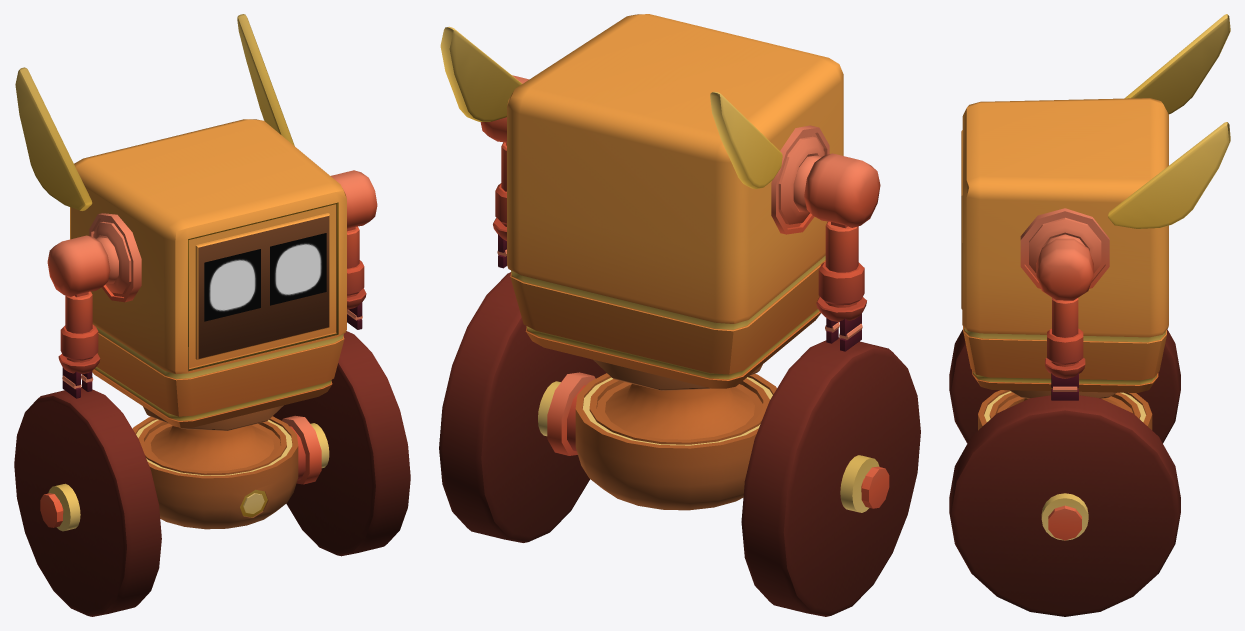
File: Turbyo.fbx
The picture shows the model from 3 angles, left to right: view 1: azimuth 30°, elevation 25°; view 2: azimuth 150°, elevation 25°; view 3: azimuth 270°, elevation 25°; orthographic projection. The views are drawn at different scales.
Parts seen in each view (by area): view 1: pCylinder7, pCylinder3, pCylinder2, polySurface28, polySurface5, polySurface29, polySurface30, polySurface6, polySurface4; view 2: pCylinder7, pCylinder3, pCylinder2, polySurface28, polySurface4, polySurface5, polySurface6; view 3: pCylinder7, pCylinder3, polySurface6, polySurface4, polySurface5, pCylinder2.
Boxes of the visible parts, bbox=[...] form: pCylinder7: bbox=[70, 119, 346, 430]; pCylinder3: bbox=[14, 331, 410, 616]; pCylinder2: bbox=[132, 416, 305, 529]; polySurface28: bbox=[47, 235, 118, 398]; polySurface5: bbox=[15, 67, 92, 210]; polySurface29: bbox=[270, 233, 326, 305]; polySurface30: bbox=[204, 249, 260, 321]; polySurface6: bbox=[331, 170, 377, 329]; polySurface4: bbox=[237, 14, 294, 145]; pCylinder7: bbox=[507, 14, 843, 390]; pCylinder3: bbox=[439, 272, 920, 616]; pCylinder2: bbox=[567, 373, 776, 510]; polySurface28: bbox=[793, 153, 880, 351]; polySurface4: bbox=[440, 26, 522, 121]; polySurface5: bbox=[710, 91, 782, 188]; polySurface6: bbox=[480, 75, 528, 268]; pCylinder7: bbox=[961, 98, 1168, 398]; pCylinder3: bbox=[949, 329, 1180, 616]; polySurface6: bbox=[1036, 234, 1093, 400]; polySurface4: bbox=[1108, 122, 1230, 228]; polySurface5: bbox=[1124, 14, 1230, 114]; pCylinder2: bbox=[978, 390, 1152, 430].
Bounding box in the file's own units: 88.95 × 123 × 65.54.
